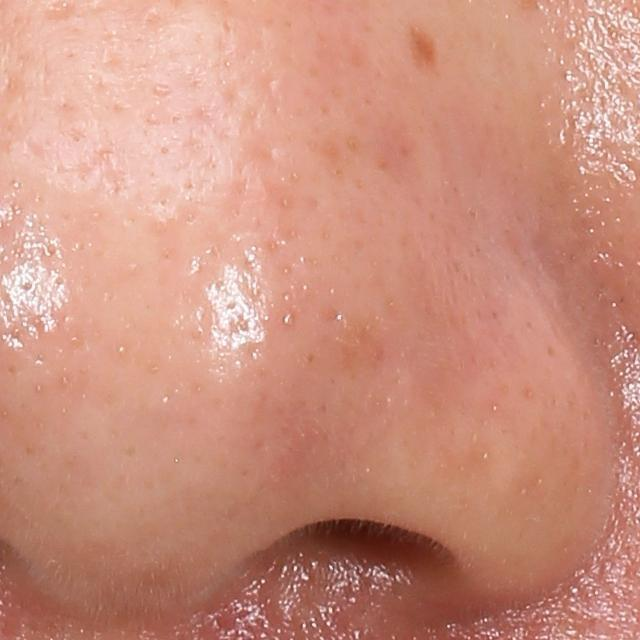atrophic_scar: (42, 1, 75, 23)
